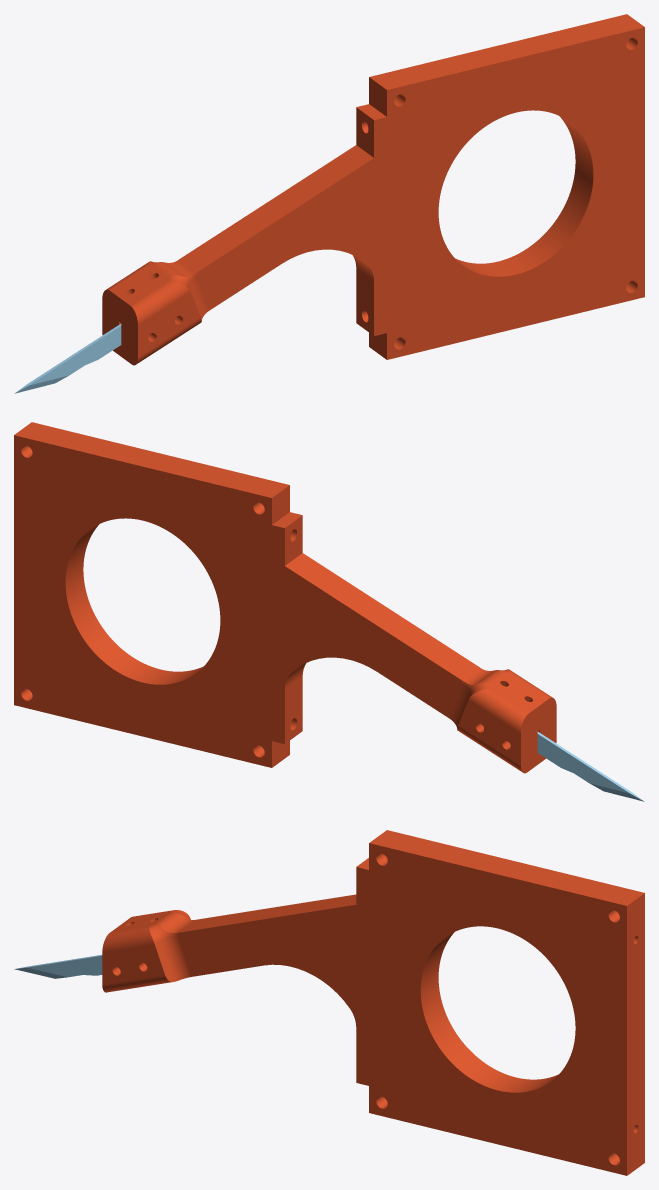
File: scalpel_tool.dae
The picture shows the model from 3 angles, top to bottom: view 1: azimuth 30°, elevation 25°; view 2: azimuth 150°, elevation 25°; view 3: azimuth 330°, elevation 25°; orthographic projection.
Visible parts, largest first — view 1: base, arm, blade_sm65; view 2: base, arm, blade_sm65; view 3: base, arm, blade_sm65.
Part boxes in pixels (box(x1,y1,x2,y2)): base: box(369, 14, 644, 359); arm: box(102, 104, 386, 365); blade_sm65: box(14, 323, 121, 393); base: box(14, 422, 289, 767); arm: box(272, 512, 556, 773); blade_sm65: box(537, 731, 644, 801); base: box(369, 830, 644, 1175); arm: box(102, 858, 368, 1085); blade_sm65: box(14, 955, 102, 978).
Size of the model in its own units: 0.1206 by 0.012 by 0.05.
